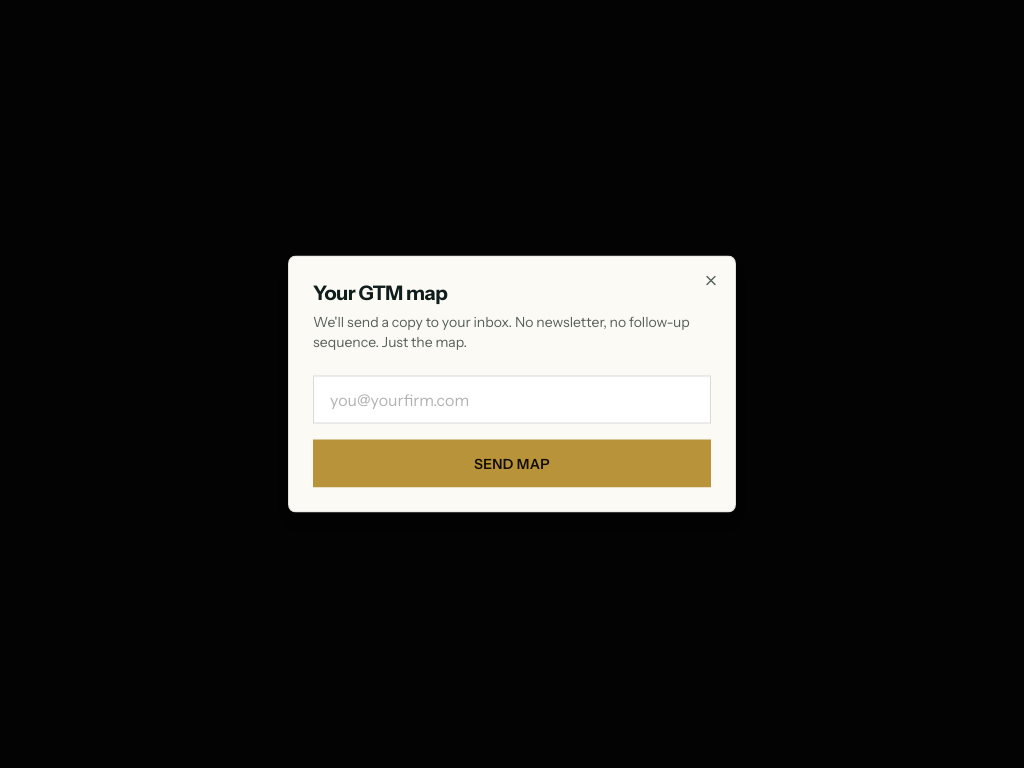
Test: ManuscriptShareSave CTAs › Email me this map opens the dialog and submits an email
Earlier steps of the test are not shown.
Type "test@example.com" into the field with placeholder "you@yourfirm.com". click: (512, 400)
box: [313,376,711,424]
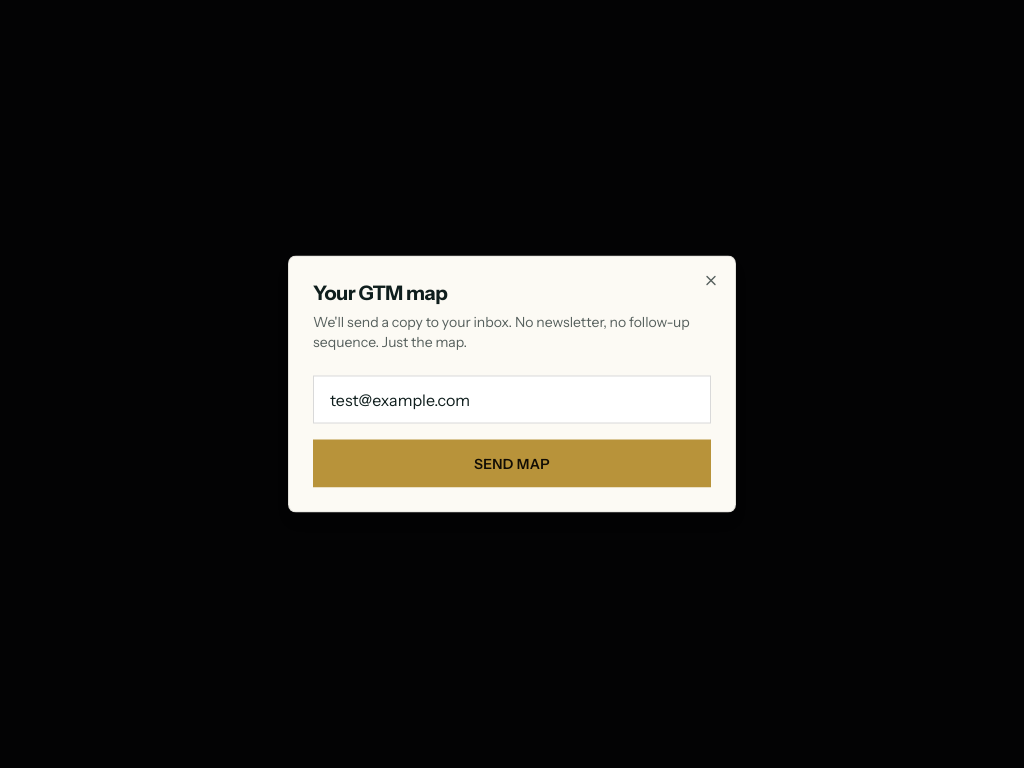
Click the button "Send map". click: (512, 464)
box: [313,440,711,488]
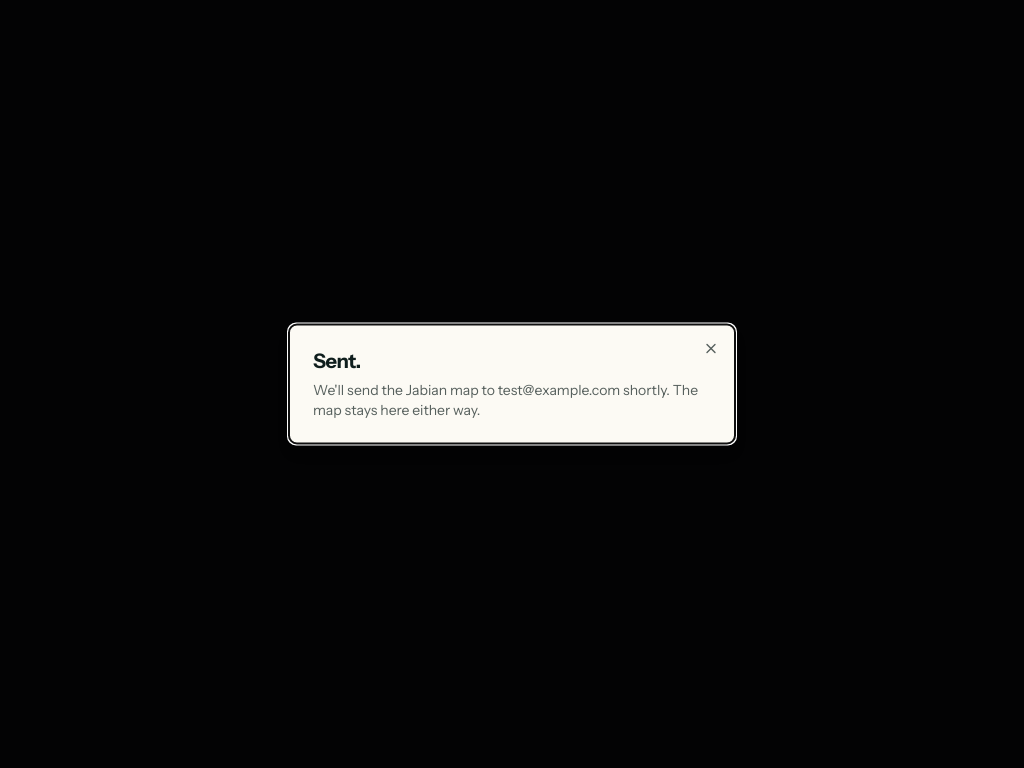
Now the heading "Sent." is shown, box [313,348,361,372]
